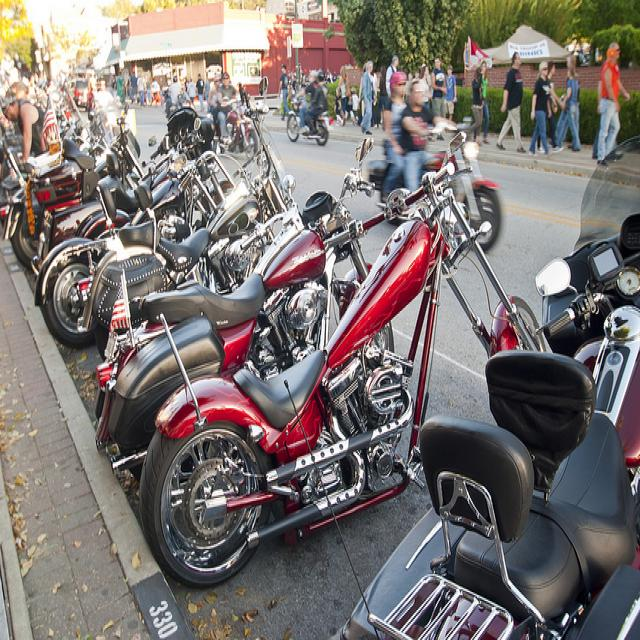motor: (138, 128, 546, 590), (350, 216, 640, 640), (95, 136, 376, 479), (73, 103, 296, 337), (37, 196, 196, 351), (74, 105, 220, 245), (5, 113, 140, 262), (368, 119, 502, 254), (33, 159, 127, 269), (286, 98, 334, 146), (56, 86, 87, 148), (225, 109, 255, 159), (87, 108, 112, 145)
